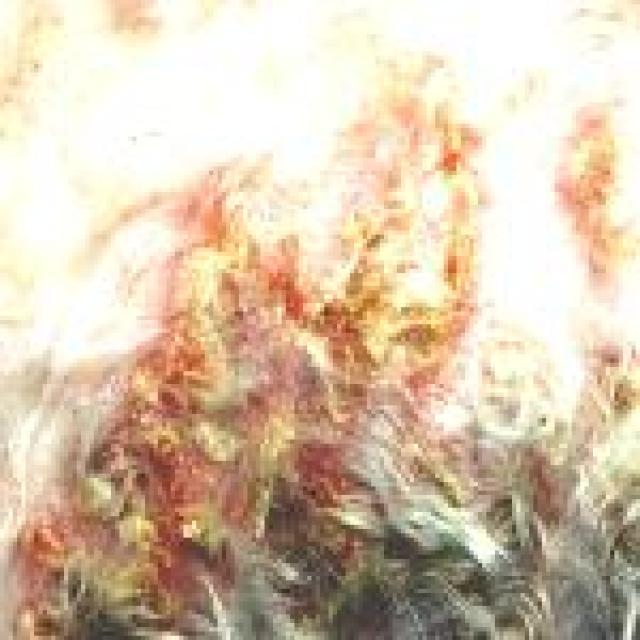fungal infection: (346, 78, 481, 346), (166, 177, 323, 393), (76, 379, 186, 638), (194, 409, 317, 578), (549, 108, 636, 286), (470, 338, 552, 446), (568, 314, 640, 436), (4, 524, 71, 640), (331, 499, 383, 623), (514, 459, 573, 518)
